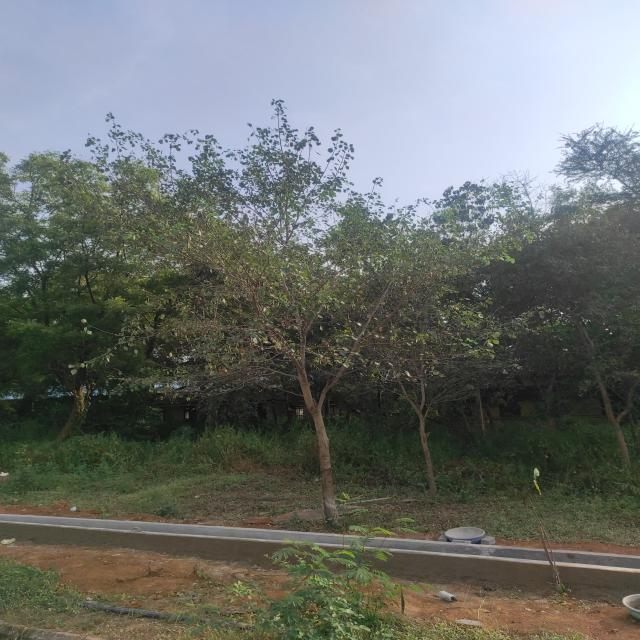Devakanchan tree: (174, 148, 502, 460)
Neem Tree: (12, 143, 143, 423)
